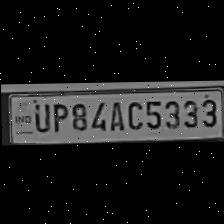3: (180, 94, 198, 127), (198, 94, 216, 127), (162, 96, 180, 128)
4: (86, 96, 106, 130)
5: (141, 96, 161, 129)
8: (66, 98, 88, 131)
A: (104, 97, 124, 130)
C: (123, 96, 143, 129)
P: (47, 98, 67, 132)
U: (29, 100, 49, 132)
